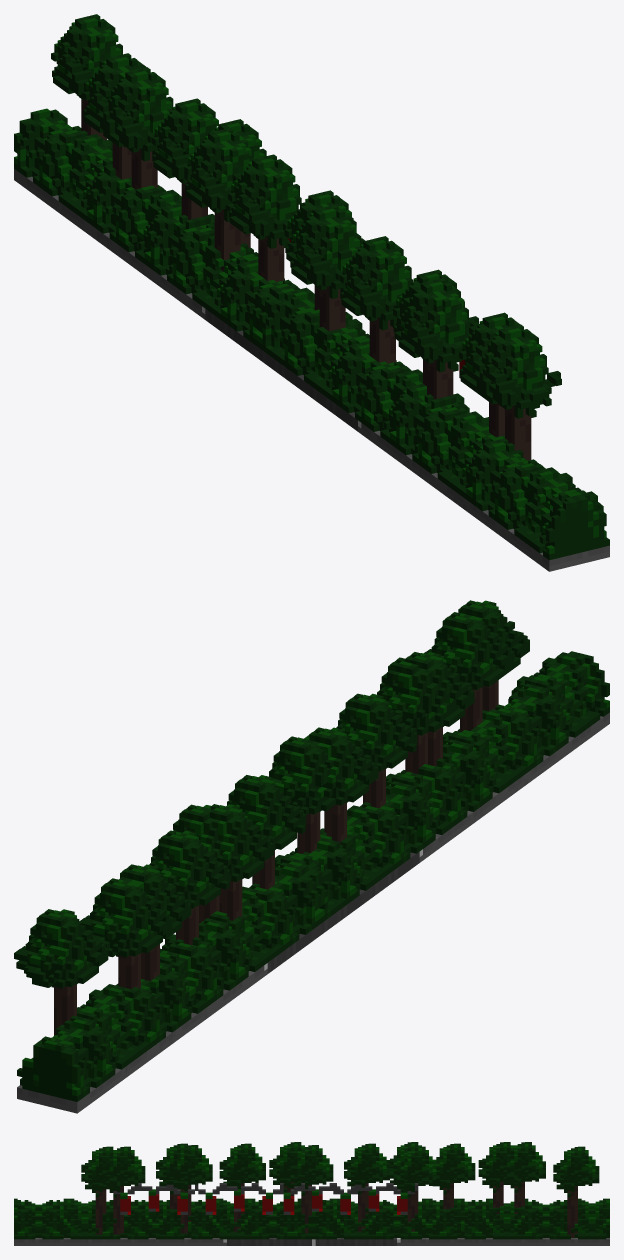
Rendered from arboles.obj.
3 renders of one model, top to bottom at view 1: azimuth 30°, elevation 25°; view 2: azimuth 150°, elevation 25°; view 3: azimuth 270°, elevation 25°, orthographic. The views are drawn at different scales.
Bounding box in the file's own units: 1.6 × 2.9 × 16.8.
1 material, 1 textured.
